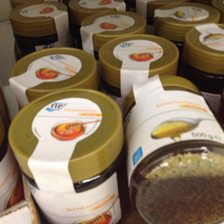honey: (10, 88, 126, 224), (127, 75, 223, 224)
